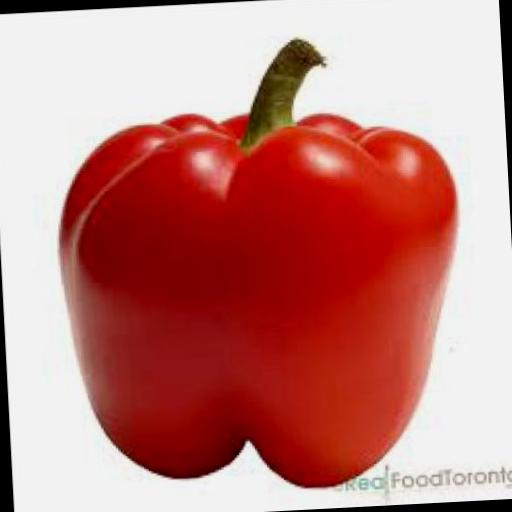biodegradable: (46, 26, 468, 497)
